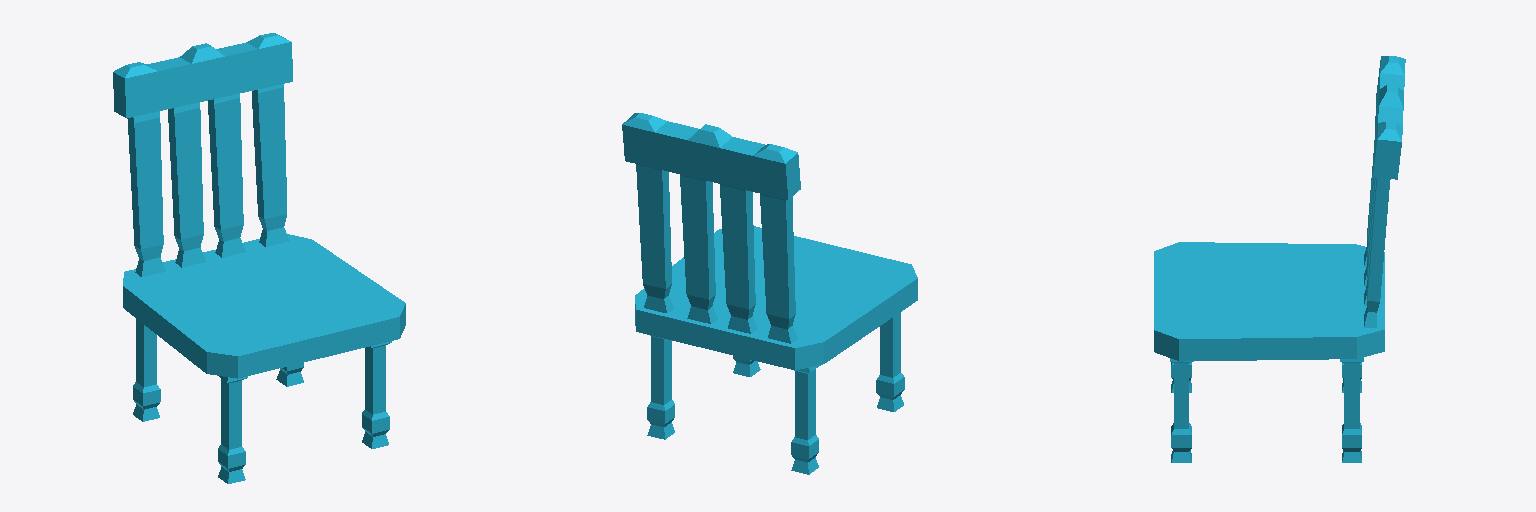
Rendered from chairobject.obj.
3 renders of one model, left to right at view 1: azimuth 30°, elevation 25°; view 2: azimuth 150°, elevation 25°; view 3: azimuth 270°, elevation 25°, orthographic.
Parts seen in each view (by area): view 1: seat, seat chair_back_top chair_back_3 chair_back_2 chair_back_4 chair, seat chair_back_top, seat leg1 leg2 leg3 leg4; view 2: seat, seat chair_back_top chair_back_3 chair_back_2 chair_back_4 chair, seat chair_back_top, seat leg1 leg2 leg3 leg4; view 3: seat, seat leg1 leg2 leg3 leg4, seat chair_back_top, seat chair_back_top chair_back_3 chair_back_2 chair_back_4 chair.
Boxes of the visible parts, <box> form: seat: <box>123,234,405,378</box>; seat chair_back_top chair_back_3 chair_back_2 chair_back_4 chair: <box>127,84,289,276</box>; seat chair_back_top: <box>113,33,292,117</box>; seat leg1 leg2 leg3 leg4: <box>133,319,391,483</box>; seat: <box>635,226,917,370</box>; seat chair_back_top chair_back_3 chair_back_2 chair_back_4 chair: <box>636,164,797,343</box>; seat chair_back_top: <box>622,113,800,199</box>; seat leg1 leg2 leg3 leg4: <box>647,312,904,474</box>; seat: <box>1154,242,1384,361</box>; seat leg1 leg2 leg3 leg4: <box>1170,357,1363,462</box>; seat chair_back_top: <box>1373,56,1405,179</box>; seat chair_back_top chair_back_3 chair_back_2 chair_back_4 chair: <box>1364,153,1390,327</box>.
Size of the model in its own units: 5.55 by 8.97 by 6.05.